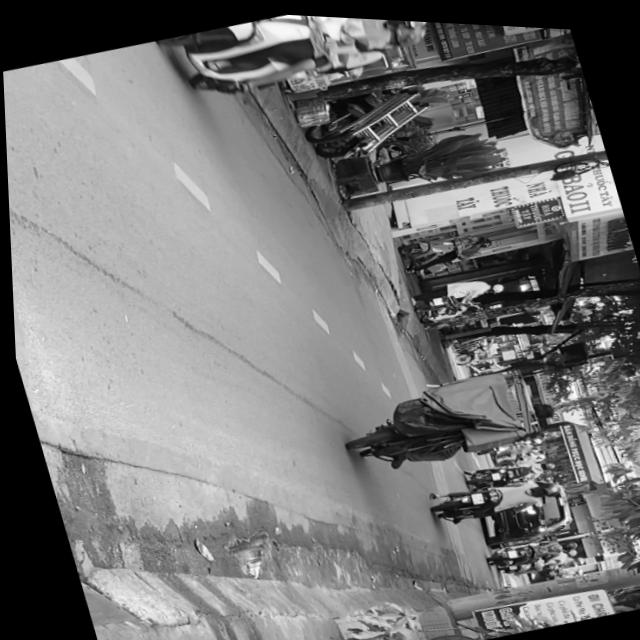helmet: (384, 16, 427, 45), (385, 16, 433, 30)
licenseplate: (331, 345, 565, 482), (157, 6, 445, 117)
motorcyclist: (521, 393, 553, 416)
